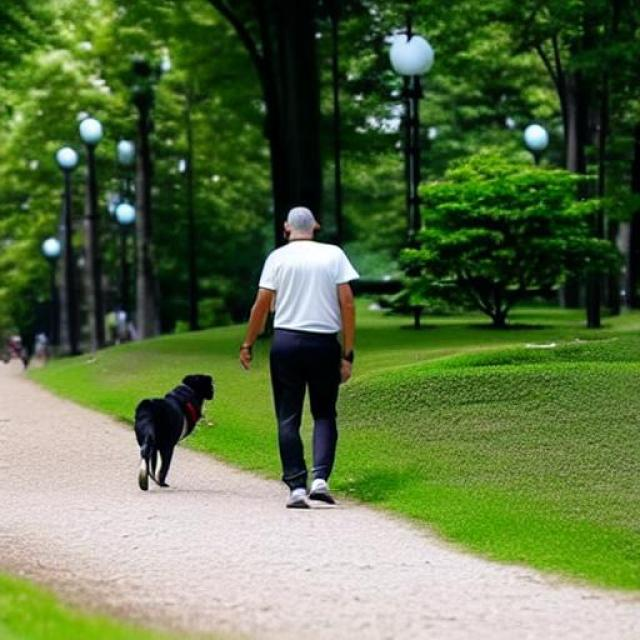Unleashed_Dog: (132, 342, 328, 493)
